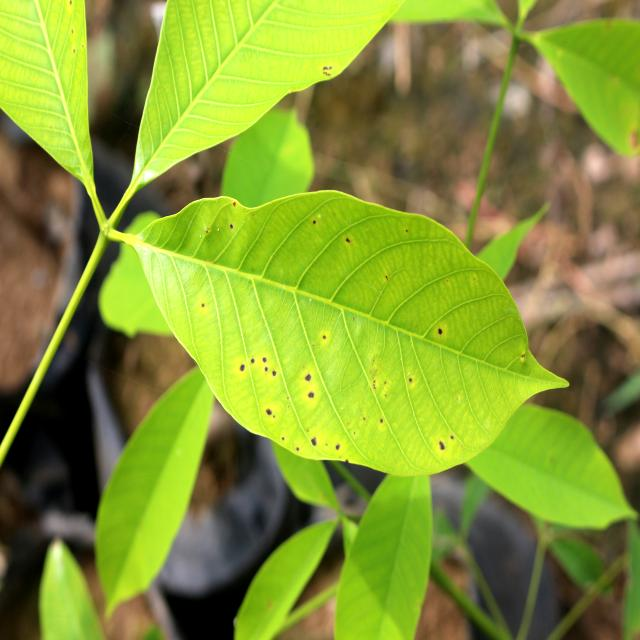Colletotrichum: (311, 437, 317, 446), (305, 374, 311, 381), (308, 392, 314, 398), (240, 365, 245, 371), (264, 367, 268, 371), (273, 371, 276, 376), (263, 358, 266, 362)
